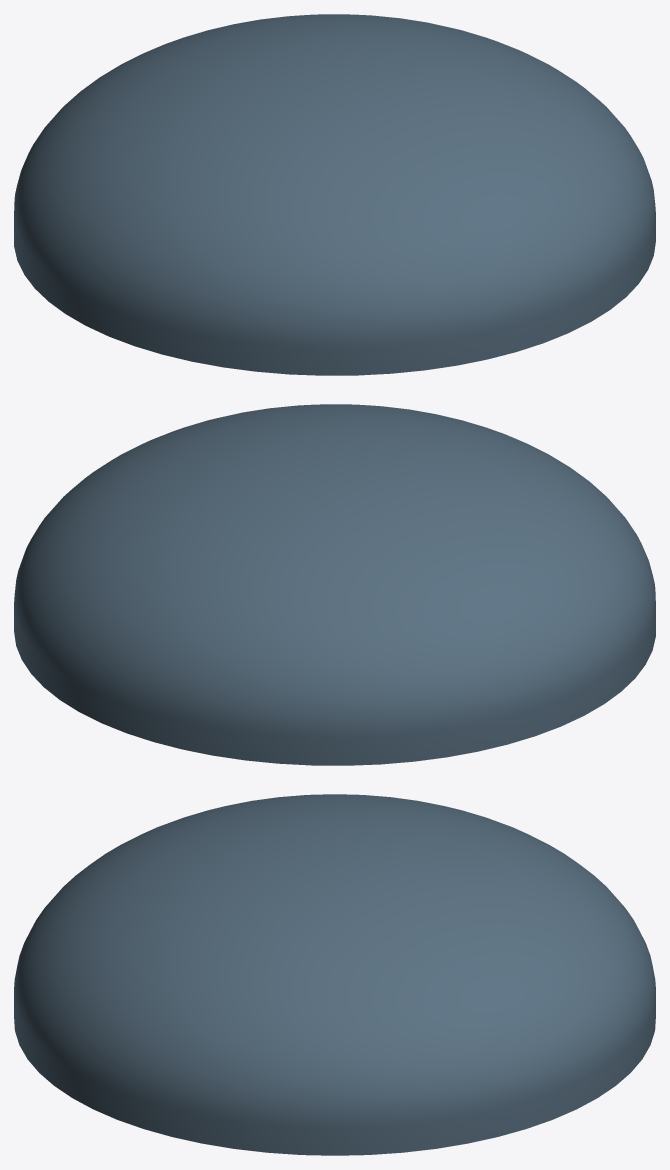
The model's file is dnishche-530x12.glb.
The picture shows the model from 3 angles, top to bottom: view 1: azimuth 30°, elevation 25°; view 2: azimuth 150°, elevation 25°; view 3: azimuth 270°, elevation 25°; orthographic projection.
Parts seen in each view (by area): view 1: Open CASCADE STEP translator 7.9 22; view 2: Open CASCADE STEP translator 7.9 22; view 3: Open CASCADE STEP translator 7.9 22.
Boxes of the visible parts, <box> form: Open CASCADE STEP translator 7.9 22: <box>14,14,655,375</box>; Open CASCADE STEP translator 7.9 22: <box>14,404,655,765</box>; Open CASCADE STEP translator 7.9 22: <box>14,794,655,1155</box>.
Size of the model in its own units: 530 by 157 by 530.
